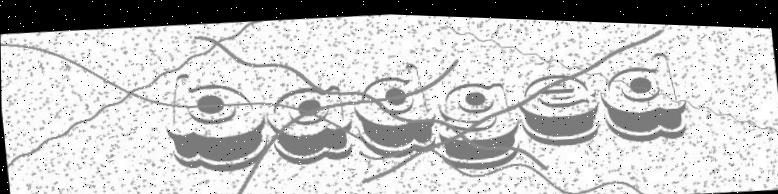a: (259, 76, 357, 170)
b: (159, 64, 269, 173)
d: (595, 41, 697, 149), (348, 53, 444, 160)
e: (514, 58, 605, 151)
g: (433, 69, 525, 172)
